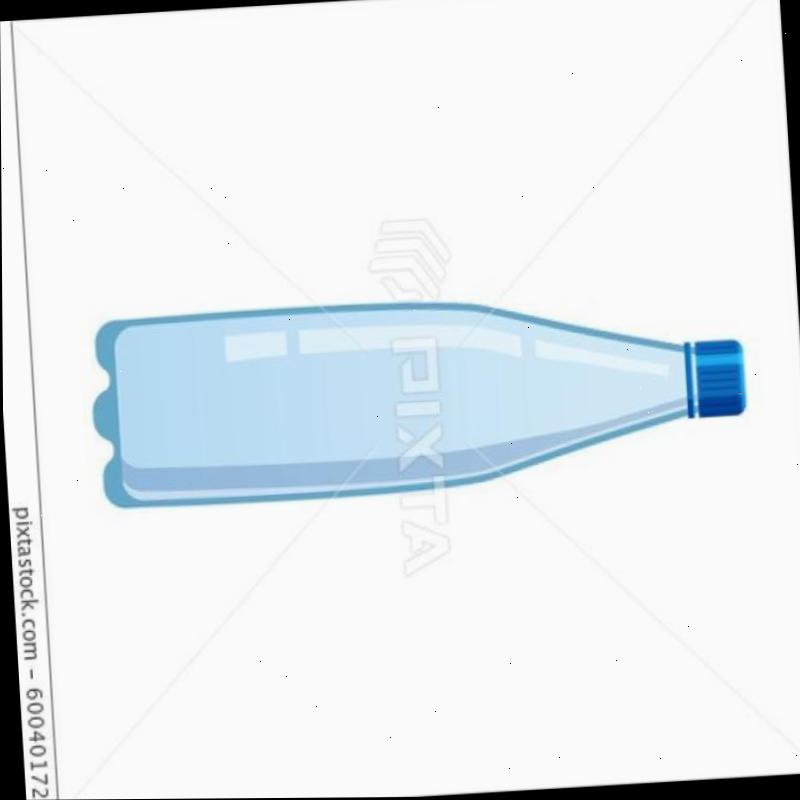botella: (88, 279, 748, 514)
